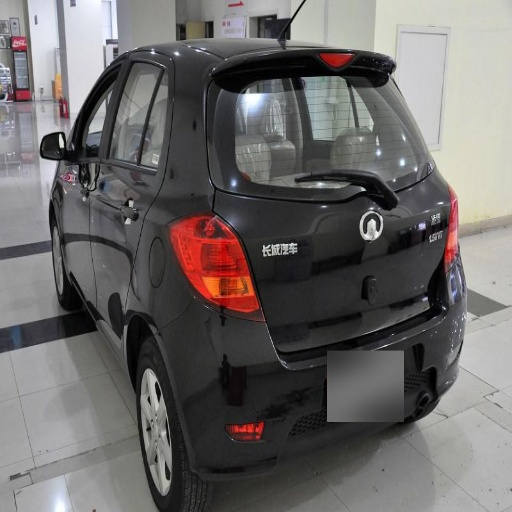back_bumper: (158, 303, 452, 486)
back_glass: (202, 73, 409, 191)
back_left_door: (96, 84, 162, 288), (418, 192, 442, 294)
tailgate: (220, 182, 355, 346)
trunk: (313, 189, 419, 315)
